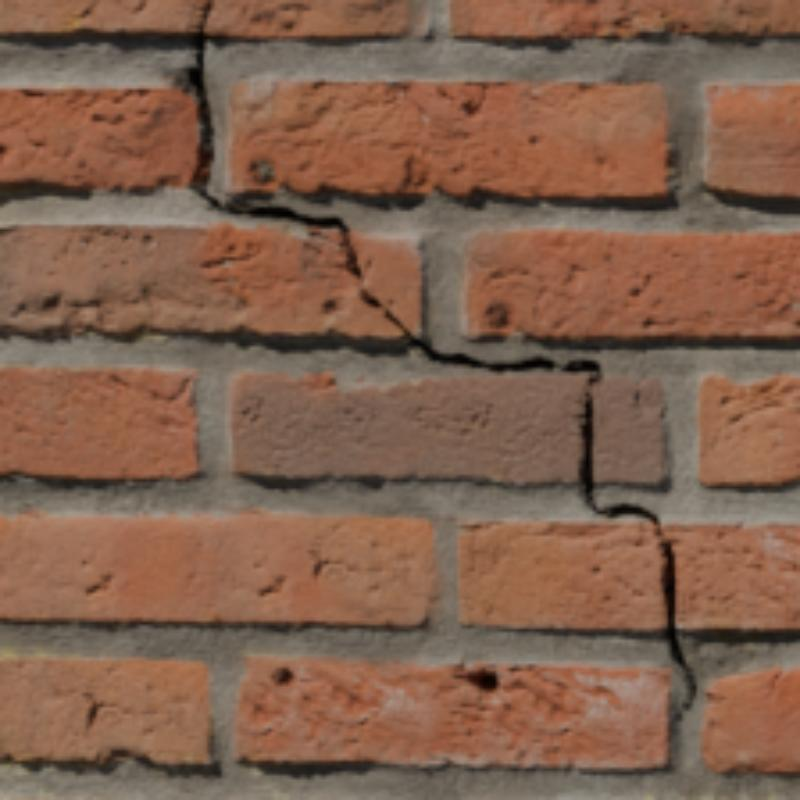crack: (186, 0, 696, 736)
